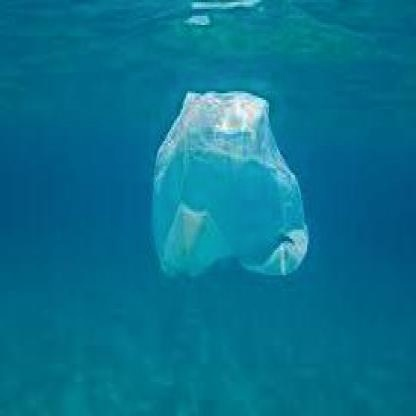pbag: (150, 89, 310, 277)
